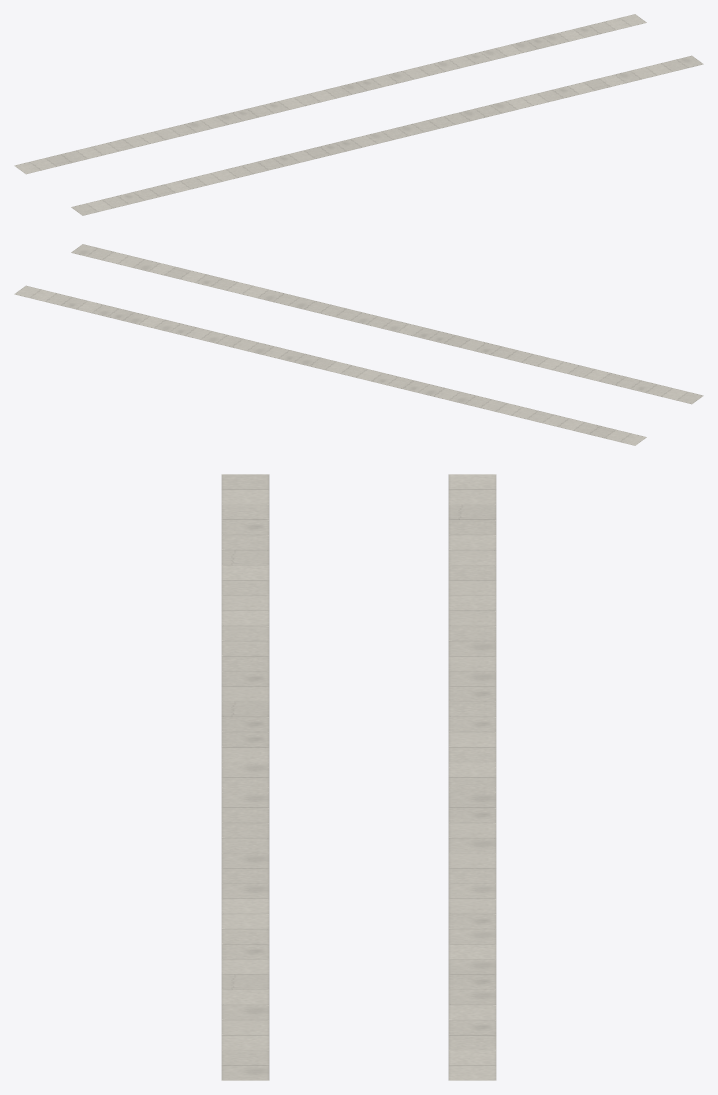
File: paving_p1_StraightEW.gltf
The picture shows the model from 3 angles, top to bottom: view 1: azimuth 30°, elevation 25°; view 2: azimuth 150°, elevation 25°; view 3: azimuth 270°, elevation 25°; orthographic projection. The views are drawn at different scales.
Visible parts, largest first — view 1: paving_p1_StraightEW; view 2: paving_p1_StraightEW; view 3: paving_p1_StraightEW.
Part boxes in pixels (x1=…): paving_p1_StraightEW: x1=14, y1=14, x2=703, y2=215; paving_p1_StraightEW: x1=14, y1=244, x2=703, y2=445; paving_p1_StraightEW: x1=221, y1=474, x2=496, y2=1080.
Bounding box in the file's own units: 60 × 0 × 11.5.
Materials: 1 (1 with a texture image).
